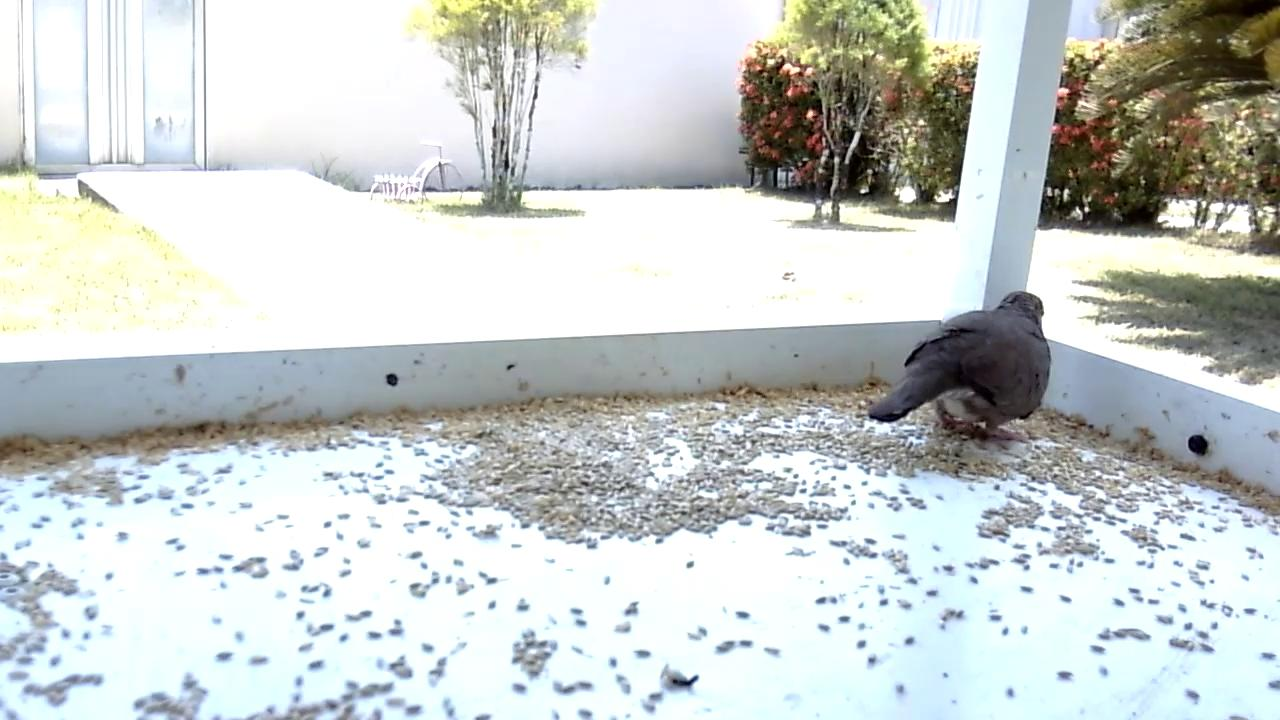rolinha: (865, 289, 1056, 444)
